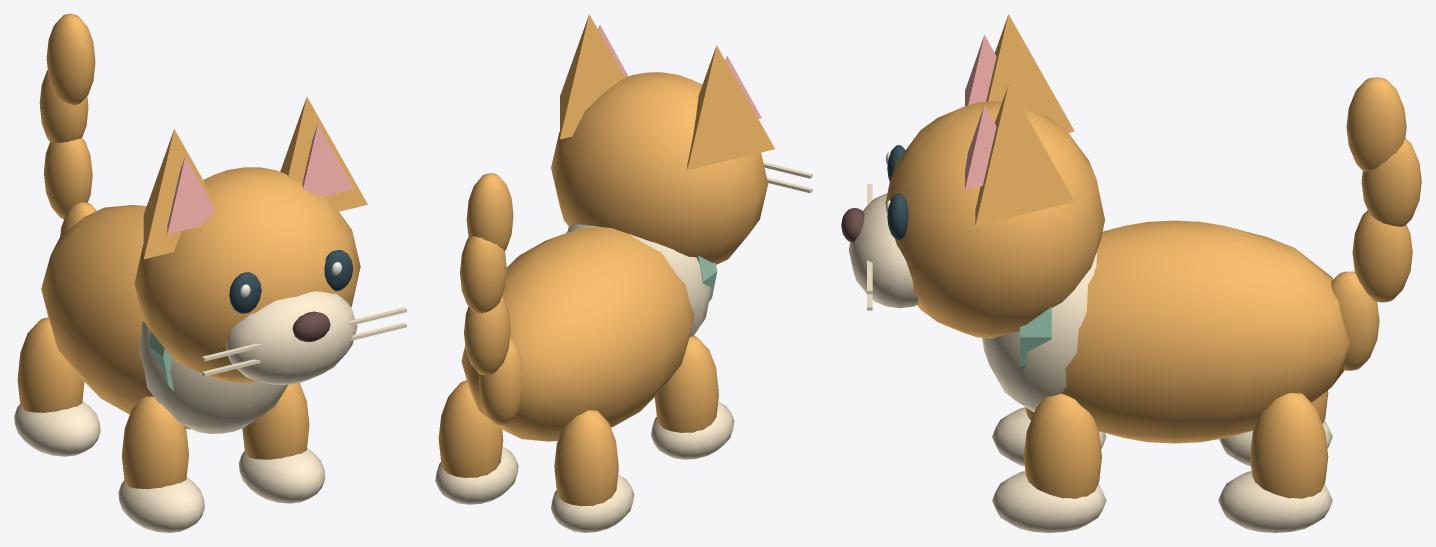
The model's file is pet-cat.glb.
The picture shows the model from 3 angles, left to right: view 1: azimuth 30°, elevation 25°; view 2: azimuth 150°, elevation 25°; view 3: azimuth 270°, elevation 25°; orthographic projection. The views are drawn at different scales.
Visible parts, largest first — view 1: PetBody, PetTail, PetLeg_FL, PetLeg_RL, PetLeg_FR; view 2: PetBody, PetTail, PetLeg_RL, PetLeg_RR, PetLeg_FL; view 3: PetBody, PetTail, PetLeg_RR, PetLeg_FR, PetLeg_FL, PetLeg_RL.
Boxes of the visible parts, <box> form: PetBody: <box>41,97,406,433</box>; PetTail: <box>39,14,96,236</box>; PetLeg_FL: <box>118,396,204,532</box>; PetLeg_RL: <box>14,317,100,456</box>; PetLeg_FR: <box>238,383,325,503</box>; PetBody: <box>461,14,812,441</box>; PetTail: <box>460,173,522,424</box>; PetLeg_RL: <box>551,410,634,532</box>; PetLeg_RR: <box>435,380,518,504</box>; PetLeg_FL: <box>651,336,734,459</box>; PetBody: <box>841,14,1350,443</box>; PetTail: <box>1331,77,1421,370</box>; PetLeg_RR: <box>1218,393,1332,532</box>; PetLeg_FR: <box>992,393,1106,532</box>; PetLeg_FL: <box>992,407,1106,466</box>; PetLeg_RL: <box>1219,390,1332,466</box>.
Size of the model in its own units: 0.9321 by 1.63 by 1.93.
